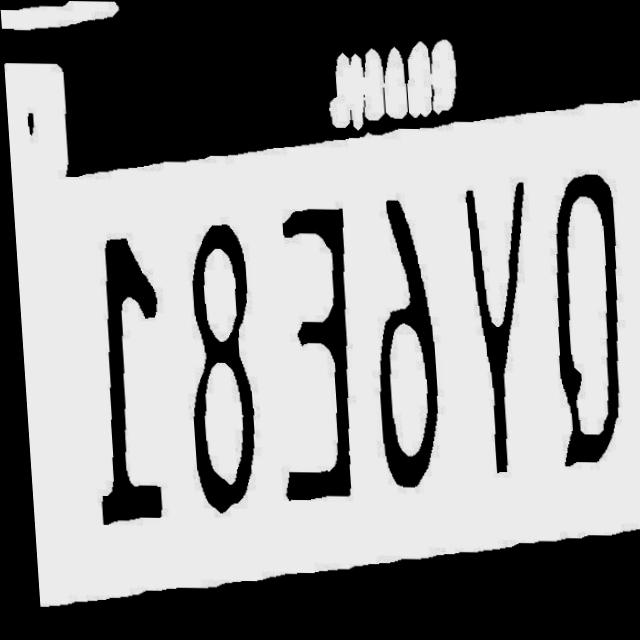1: (64, 219, 173, 523)
6: (351, 189, 456, 505)
8: (159, 220, 261, 525)
e: (254, 201, 361, 510)
q: (530, 151, 633, 482)
y: (446, 173, 539, 480)
